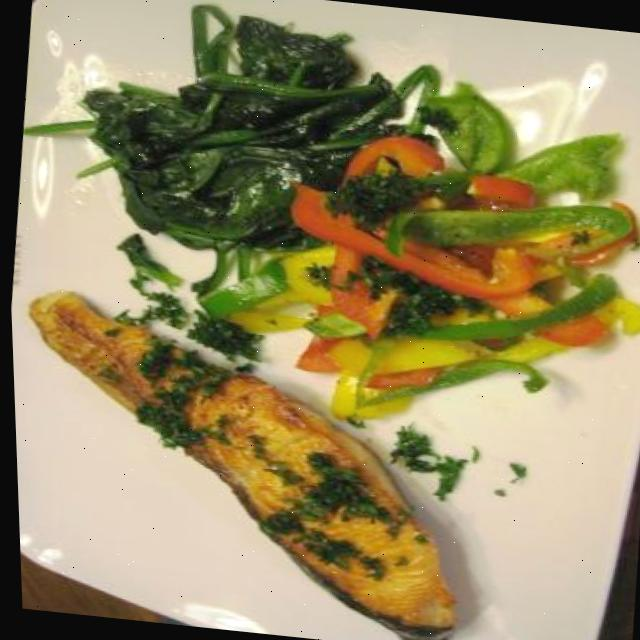蔬菜料理: (1, 0, 513, 335)
